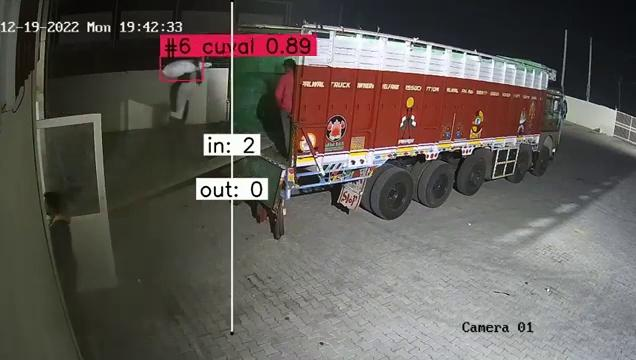karung: (162, 58, 202, 81)
